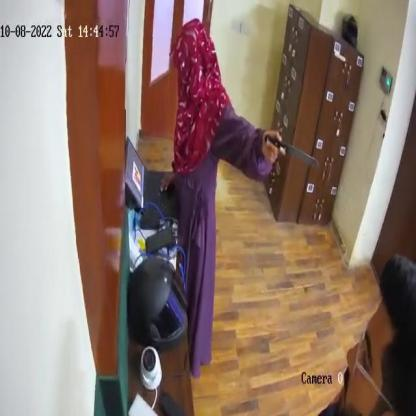Knife: (262, 136, 319, 172)
